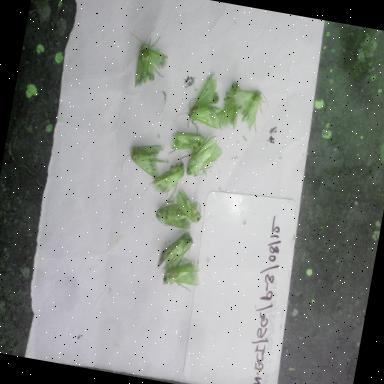abw: (116, 19, 178, 96), (170, 64, 232, 133), (225, 80, 273, 140), (154, 252, 210, 299), (181, 132, 227, 186), (154, 224, 198, 280), (144, 156, 190, 202), (120, 138, 168, 182), (218, 76, 249, 142), (168, 186, 209, 233), (164, 124, 208, 157)
